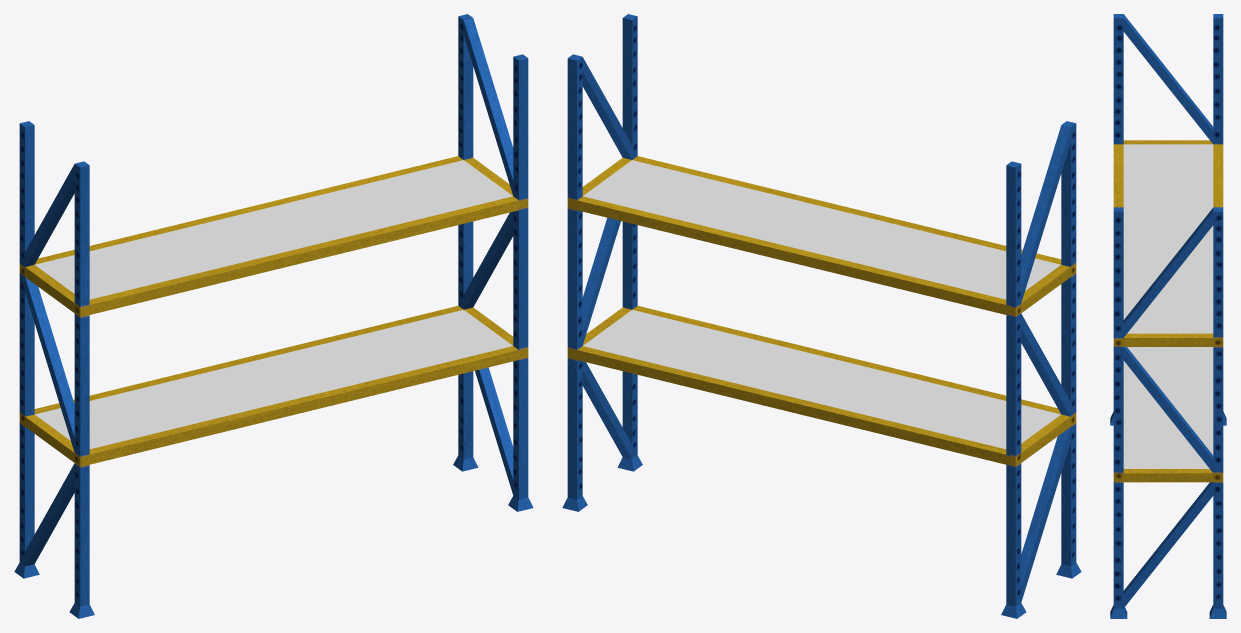
The model's file is shelf.fbx.
The picture shows the model from 3 angles, left to right: view 1: azimuth 30°, elevation 25°; view 2: azimuth 150°, elevation 25°; view 3: azimuth 270°, elevation 25°; orthographic projection. The views are drawn at different scales.
Visible parts, largest first — view 1: shelf, shelf_net; view 2: shelf, shelf_net; view 3: shelf_net, shelf.
Boxes of the visible parts, bbox=[...] form: shelf: bbox=[14, 14, 533, 618]; shelf_net: bbox=[35, 160, 512, 449]; shelf: bbox=[562, 14, 1081, 618]; shelf_net: bbox=[583, 160, 1060, 449]; shelf_net: bbox=[1123, 144, 1213, 468]; shelf: bbox=[1110, 14, 1226, 618].
Bounding box in the file's own units: 95.4 × 90 × 23.4.
